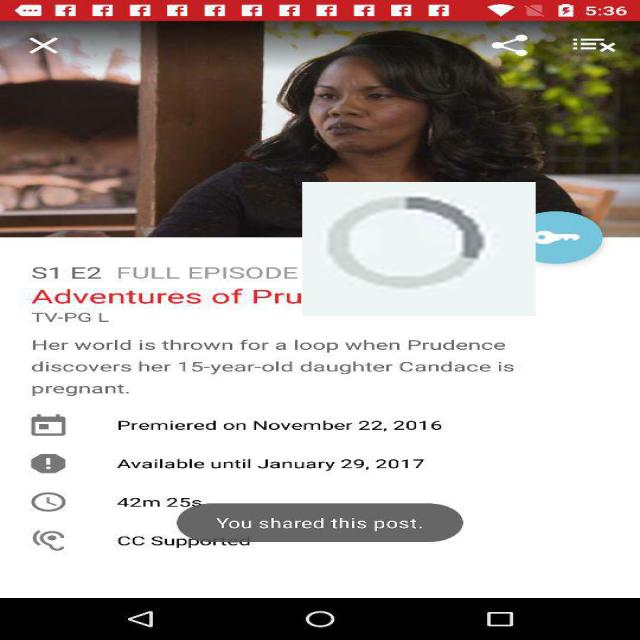misdirection: (302, 182, 536, 316)
